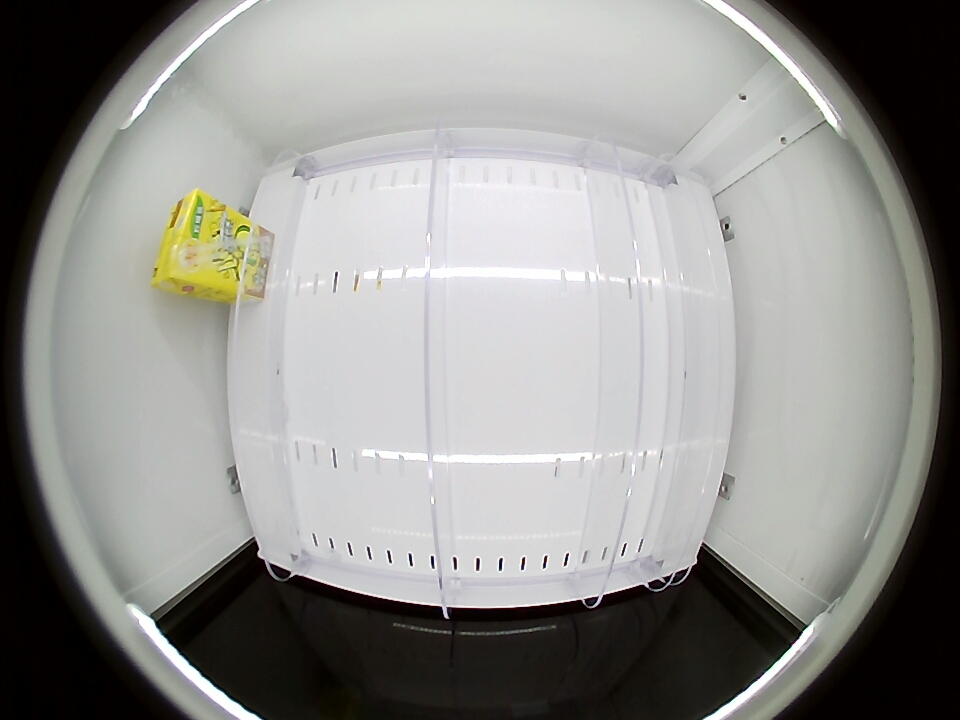weitaningmeng: (153, 188, 228, 295)
